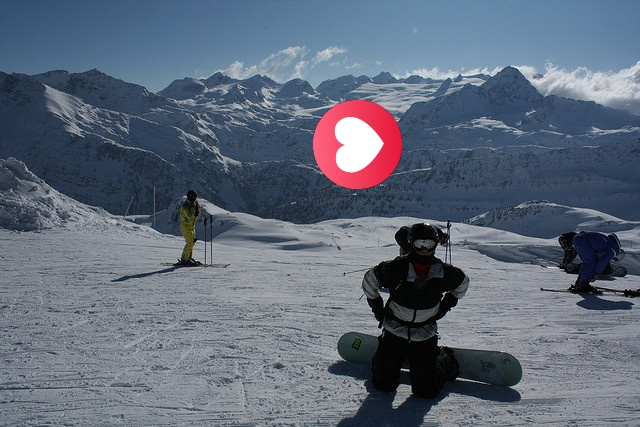love: (313, 100, 402, 189)
